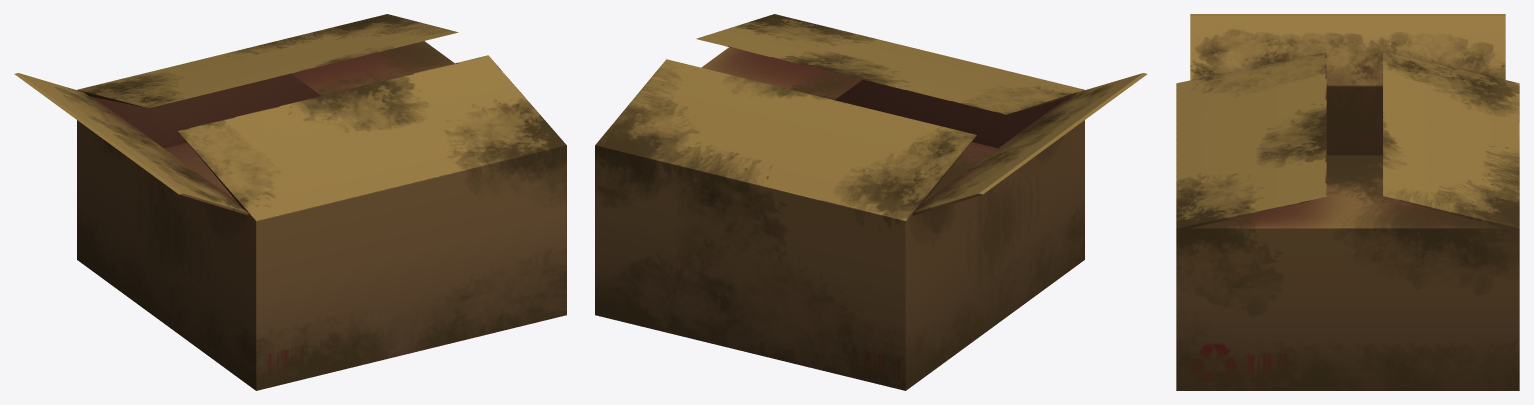
3 renders of one model, left to right at view 1: azimuth 30°, elevation 25°; view 2: azimuth 150°, elevation 25°; view 3: azimuth 270°, elevation 25°, orthographic. The views are drawn at different scales.
Visible parts, largest first — view 1: Box; view 2: Box; view 3: Box.
Boxes of the visible parts, x1,y1,x2,y2 form: Box: [14, 14, 566, 390]; Box: [595, 14, 1147, 390]; Box: [1176, 14, 1519, 390].
Bounding box in the file's own units: 0.6008 × 0.314 × 0.4903.
Materials: 1 (1 with a texture image).
